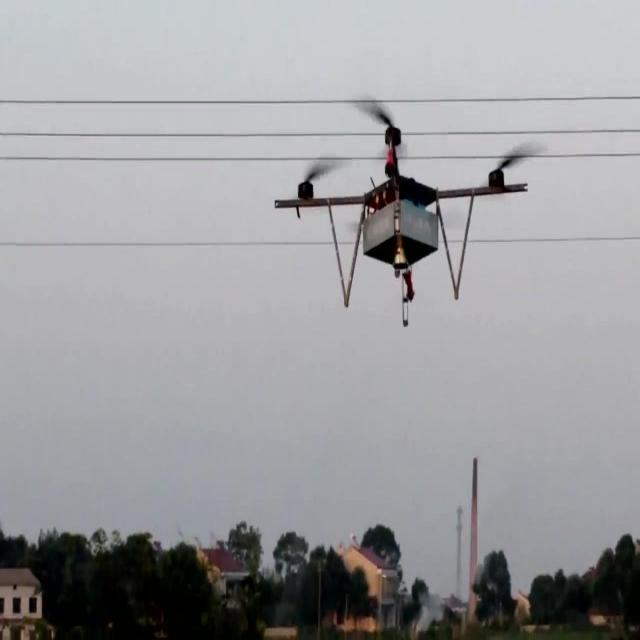drone: (274, 118, 529, 336)
